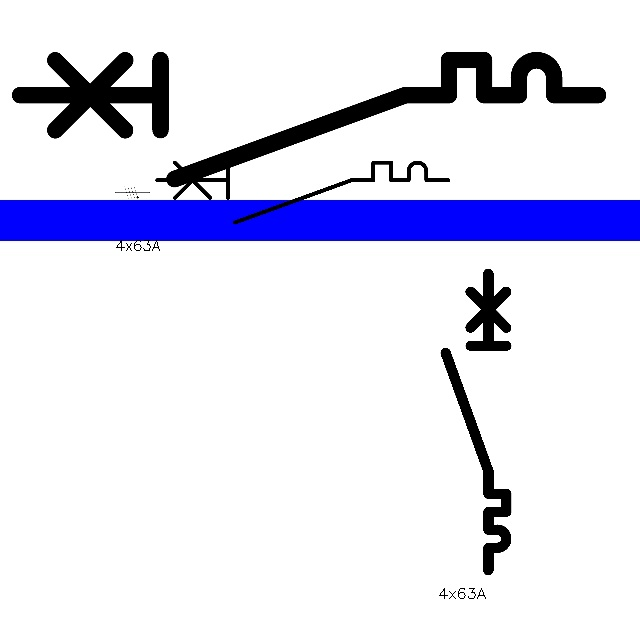interruptor_termomagnetico: (5, 45, 613, 194), (438, 266, 514, 578), (149, 155, 455, 230)
